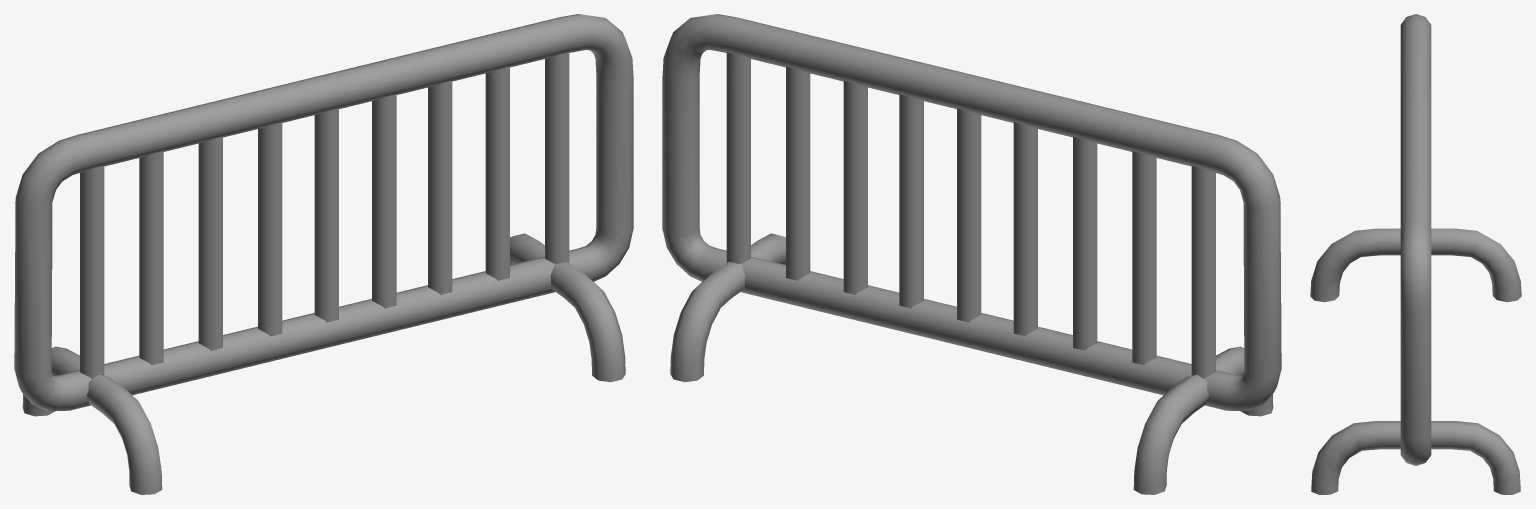
File: bike-rack-barricade.glb
3 views of the same model, side by side, from view 1: azimuth 30°, elevation 25°; view 2: azimuth 150°, elevation 25°; view 3: azimuth 270°, elevation 25° (orthographic). The views are drawn at different scales.
Parts seen in each view (by area): view 1: Bike_Rack_Barricade; view 2: Bike_Rack_Barricade; view 3: Bike_Rack_Barricade.
Boxes of the visible parts, x1,y1,x2,y2 form: Bike_Rack_Barricade: (14, 14, 633, 494); Bike_Rack_Barricade: (662, 14, 1281, 494); Bike_Rack_Barricade: (1310, 14, 1521, 494).
Size of the model in its own units: 2.22 by 1.09 by 0.7753.
1 material, 1 textured.
